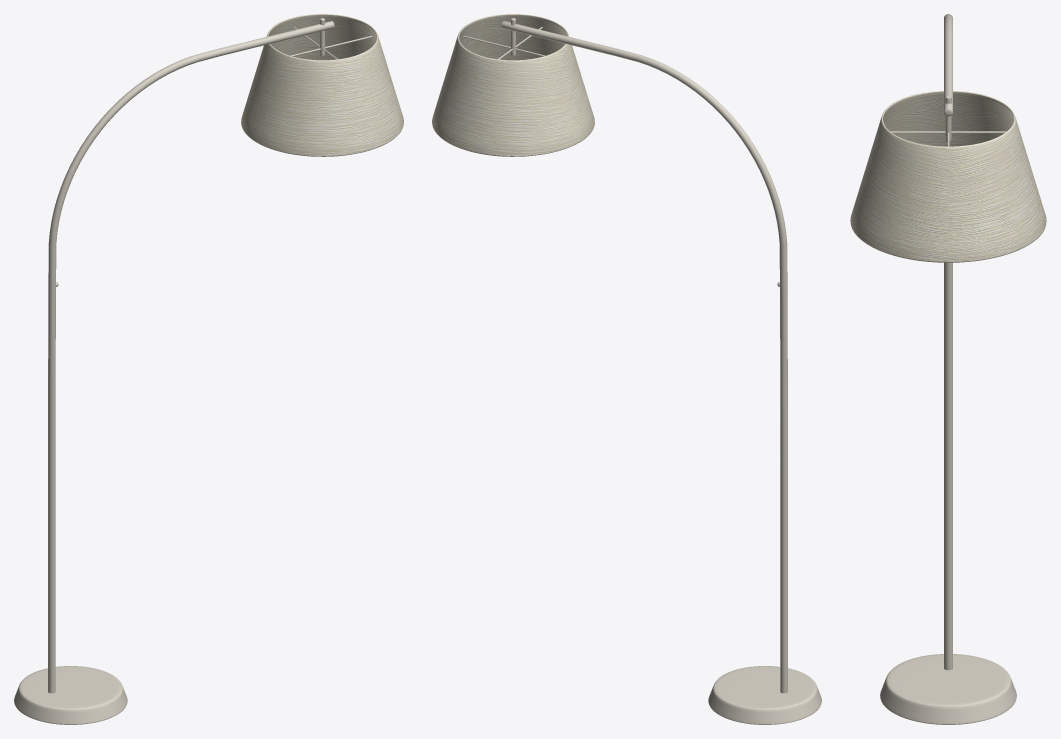
Rendered from lamp.obj.
3 renders of one model, left to right at view 1: azimuth 30°, elevation 25°; view 2: azimuth 150°, elevation 25°; view 3: azimuth 270°, elevation 25°, orthographic. The views are drawn at different scales.
Parts seen in each view (by area): view 1: Sweep_floor_lamp; view 2: Sweep_floor_lamp; view 3: Sweep_floor_lamp.
Boxes of the visible parts, <box> form: Sweep_floor_lamp: <box>14,14,403,724</box>; Sweep_floor_lamp: <box>432,14,821,724</box>; Sweep_floor_lamp: <box>850,14,1046,724</box>.
Size of the model in its own units: 1.1 by 1.75 by 0.4167.
Materials: 1 (1 with a texture image).
